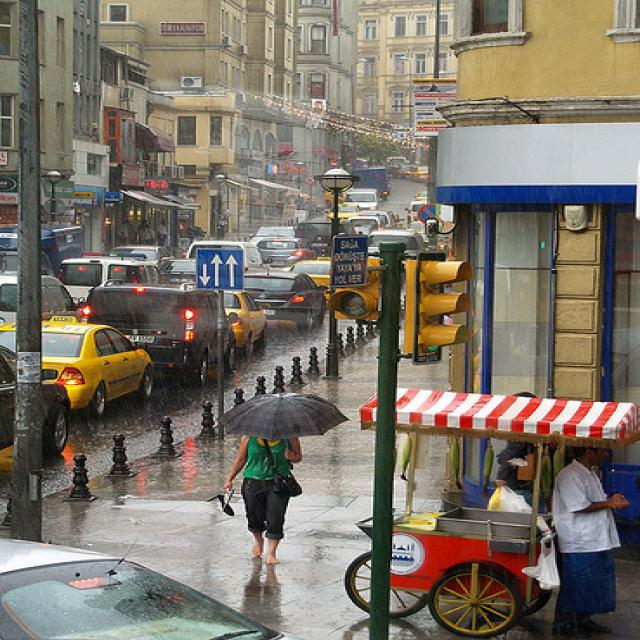Vehicle: (1, 185, 434, 478), (4, 536, 291, 634), (76, 277, 239, 389), (0, 316, 157, 420), (59, 258, 163, 312), (164, 239, 282, 284), (244, 270, 333, 326), (1, 273, 81, 326), (224, 289, 270, 358), (254, 238, 314, 268), (294, 223, 347, 255), (106, 244, 176, 268), (368, 226, 426, 252), (289, 258, 330, 289), (355, 166, 390, 199), (344, 188, 378, 211), (324, 204, 361, 224)
